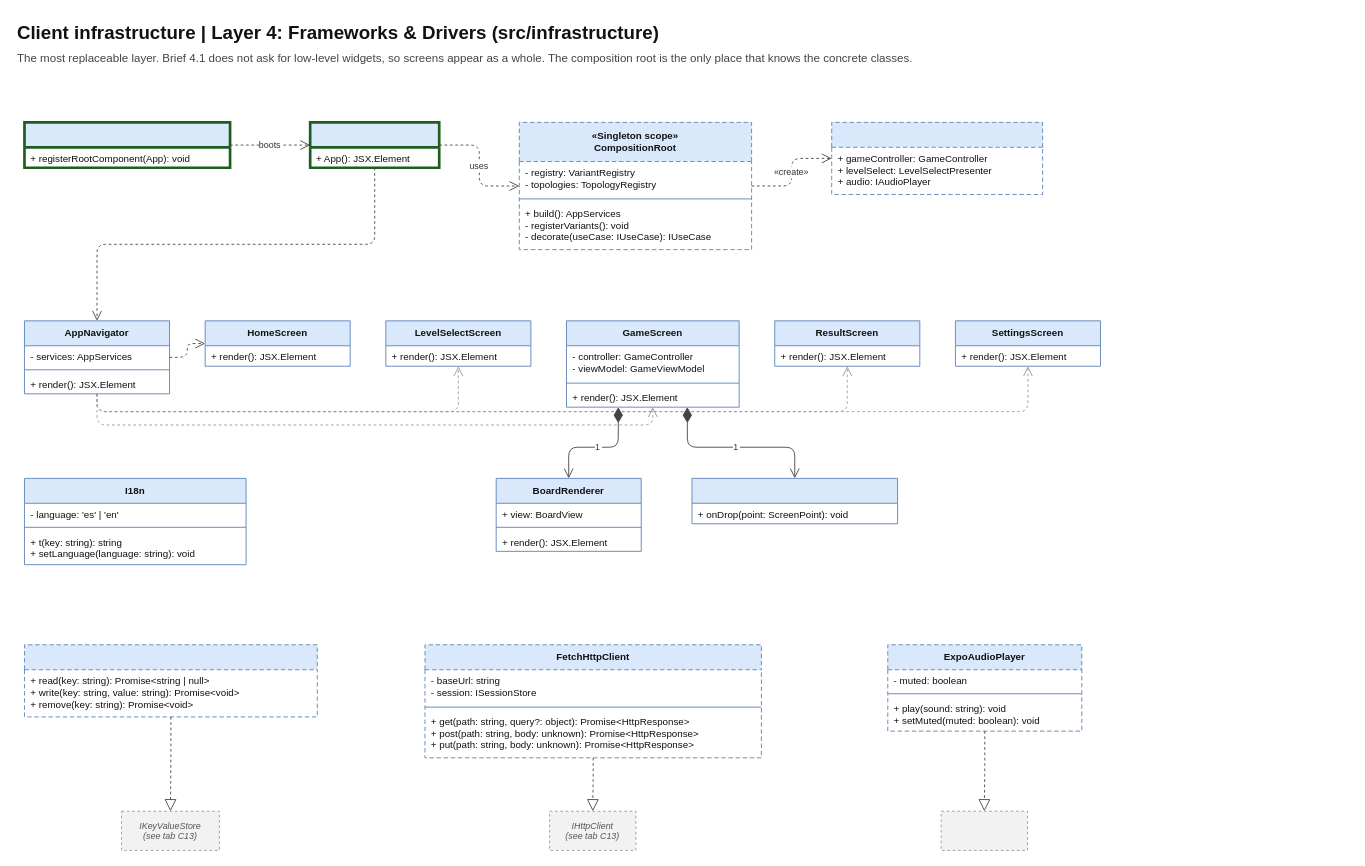
The diagram is 1365 pixels wide and 866 high, and some of its shapes have lost their labels. Here are the shapes that lost their labels. From the top down, the box of each, then its label:
(23, 121, 231, 169): ✓ index.ts
(308, 121, 440, 169): ✓ App.tsx
(831, 121, 1043, 194): AppServices
(691, 477, 898, 524): DragGesture
(24, 644, 317, 717): LocalKeyValueStore
(940, 810, 1028, 850): IAudioPlayer (see tab C12)
